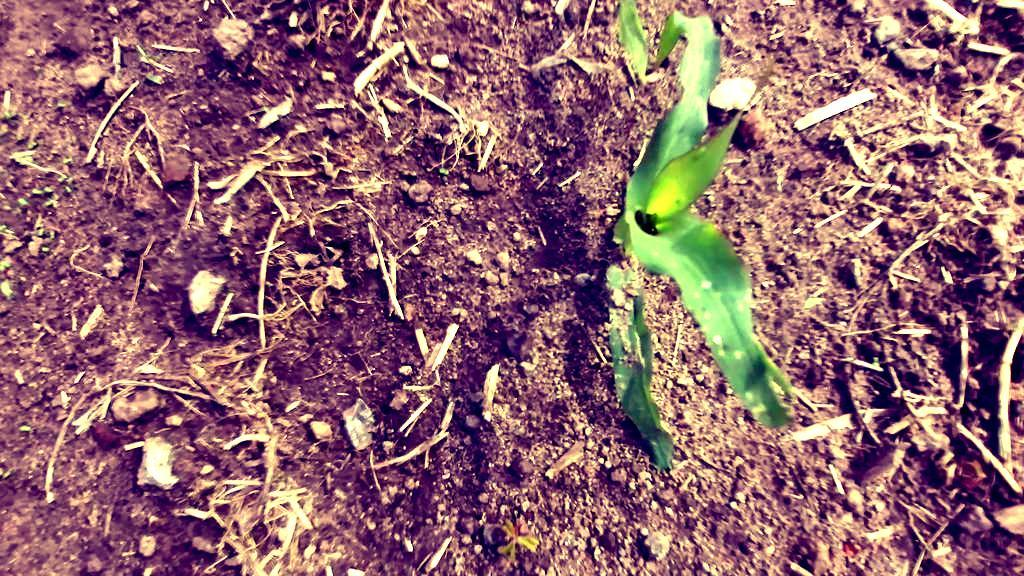BroWeed: (486, 517, 542, 570), (953, 457, 989, 493), (801, 291, 824, 310), (143, 69, 167, 87), (0, 277, 15, 299), (1001, 319, 1017, 339), (31, 187, 46, 197), (25, 140, 38, 151), (0, 469, 12, 480), (17, 197, 30, 207), (0, 260, 10, 273), (57, 99, 71, 106), (5, 110, 17, 118), (18, 424, 31, 431), (43, 186, 54, 194), (56, 174, 65, 183), (64, 184, 73, 193), (439, 167, 449, 175), (37, 227, 44, 237), (0, 223, 7, 231), (41, 246, 49, 252), (49, 230, 55, 238), (873, 357, 879, 365), (64, 158, 72, 163), (0, 467, 4, 476)
Maize: (578, 1, 802, 474)
